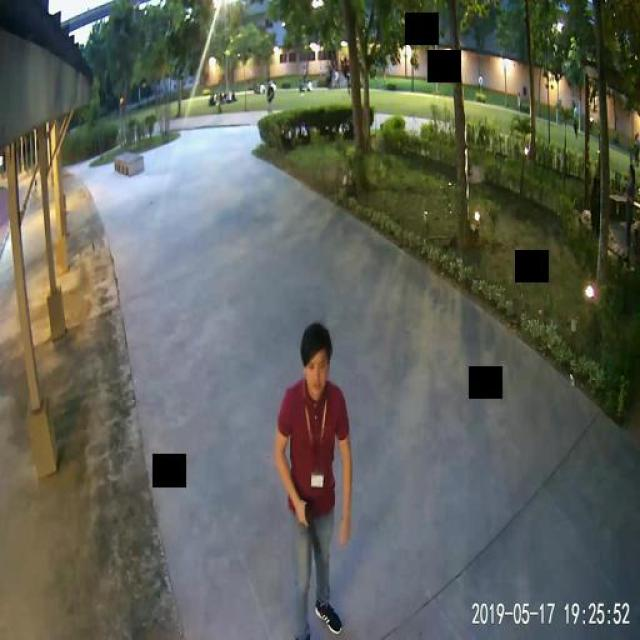gun: (295, 498, 316, 552)
